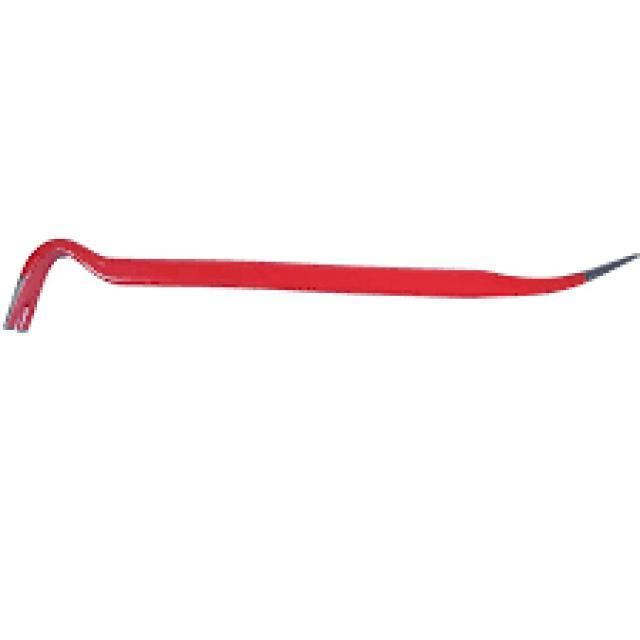Linggis: (5, 206, 640, 335)
